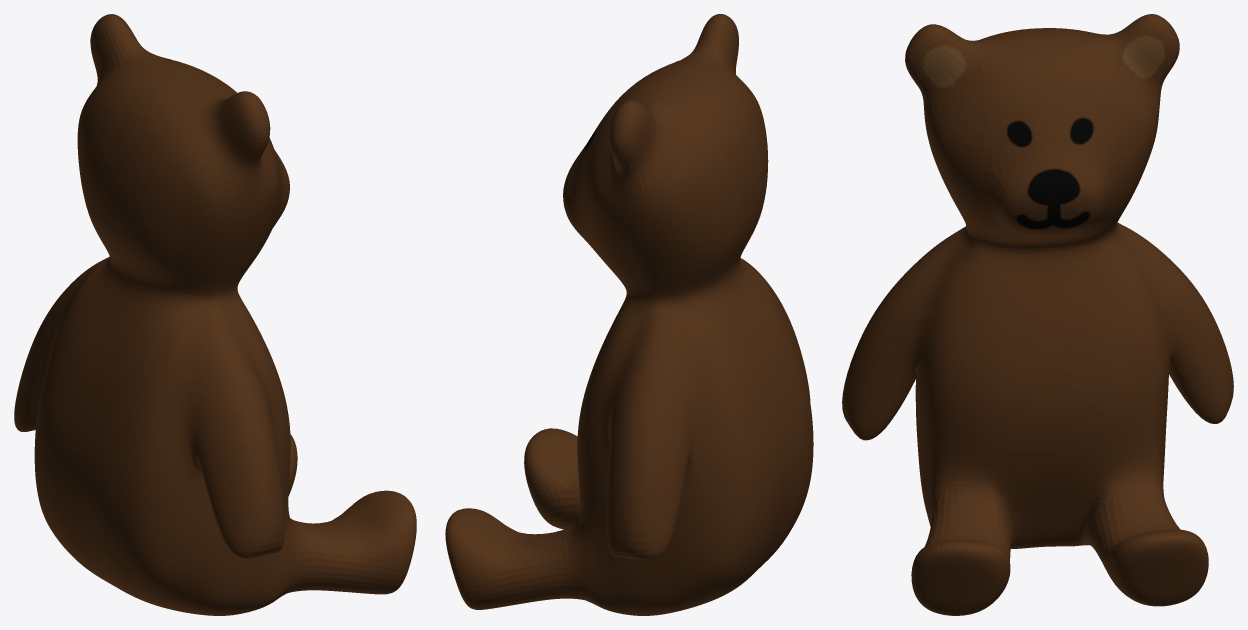
File: bear_2.fbx
3 renders of one model, left to right at view 1: azimuth 30°, elevation 25°; view 2: azimuth 150°, elevation 25°; view 3: azimuth 270°, elevation 25°, orthographic. The views are drawn at different scales.
Parts seen in each view (by area): view 1: Teddy; view 2: Teddy; view 3: Teddy.
Boxes of the visible parts, x1,y1,x2,y2 form: Teddy: (14,14,416,615); Teddy: (445,14,813,615); Teddy: (842,14,1233,615).
Size of the model in its own units: 20.92 by 36.31 by 24.66.
Materials: 1 (1 with a texture image).
